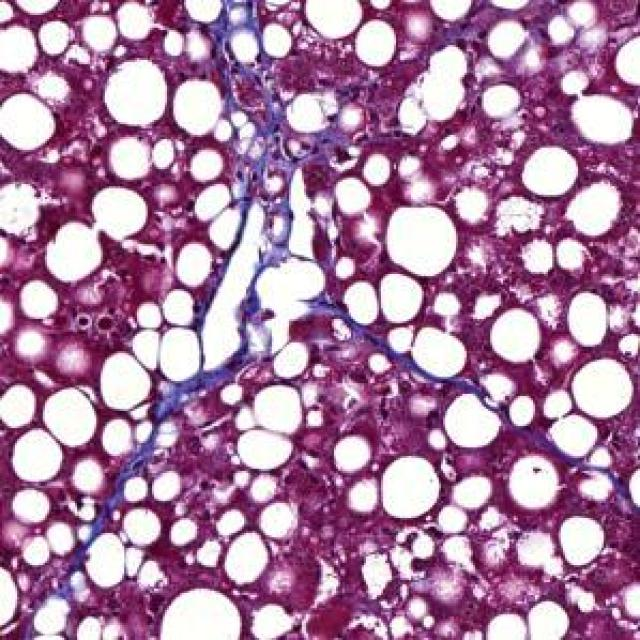fibrosis: (233, 90, 306, 231)
